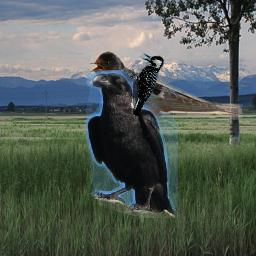Crow: (85, 70, 178, 218)
Swallow: (90, 50, 243, 120)
Woodpecker: (128, 53, 165, 116)
